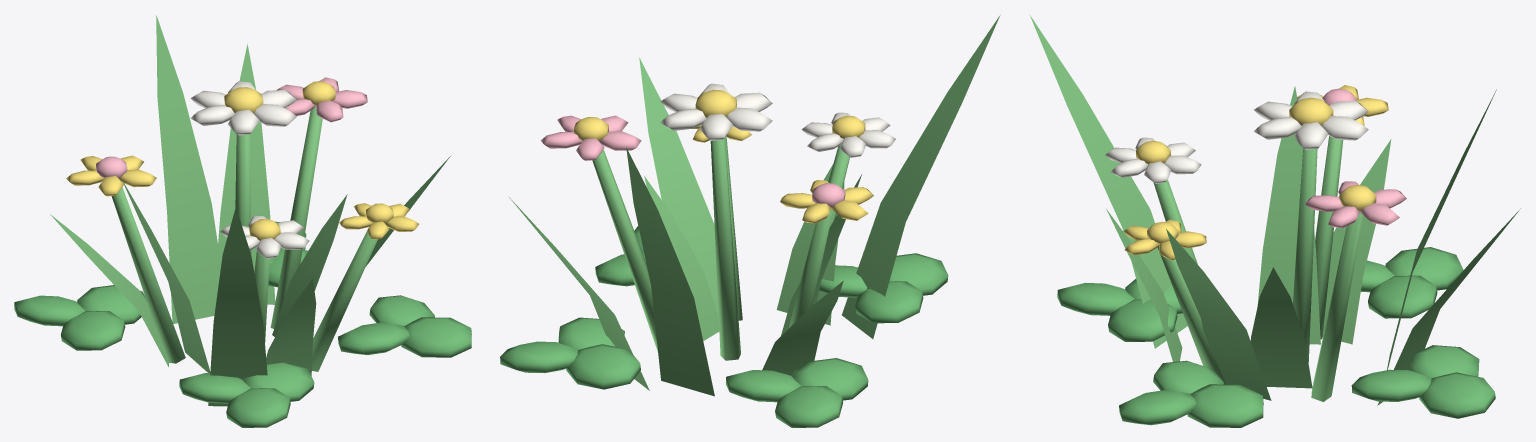
The model's file is wildflower_cluster.glb.
3 renders of one model, left to right at view 1: azimuth 30°, elevation 25°; view 2: azimuth 150°, elevation 25°; view 3: azimuth 270°, elevation 25°, orthographic. The views are drawn at different scales.
Parts seen in each view (by area): view 1: BloomStem_0, CloverLobe_0_0, BloomCtr_0, BloomPet_0_0, BloomCtr_1; view 2: BloomStem_0, CloverLobe_0_0, BloomPet_0_0, BloomCtr_0, BloomCtr_1; view 3: BloomStem_0, CloverLobe_0_0, BloomPet_0_0, BloomCtr_0, BloomCtr_1.
Part boxes in pixels (<box>): BloomStem_0: <box>50,15,450,406</box>; CloverLobe_0_0: <box>14,221,471,427</box>; BloomCtr_0: <box>66,81,419,240</box>; BloomPet_0_0: <box>190,81,309,258</box>; BloomCtr_1: <box>96,77,367,178</box>; BloomStem_0: <box>508,15,1000,396</box>; CloverLobe_0_0: <box>500,226,948,427</box>; BloomPet_0_0: <box>660,83,895,157</box>; BloomCtr_0: <box>574,89,873,223</box>; BloomCtr_1: <box>540,115,845,207</box>; BloomStem_0: <box>1030,15,1520,405</box>; CloverLobe_0_0: <box>1057,247,1495,427</box>; BloomPet_0_0: <box>1105,91,1368,183</box>; BloomCtr_0: <box>1123,85,1388,260</box>; BloomCtr_1: <box>1305,88,1406,227</box>.
Bounding box in the file's own units: 0.4329 × 0.3445 × 0.5301.
